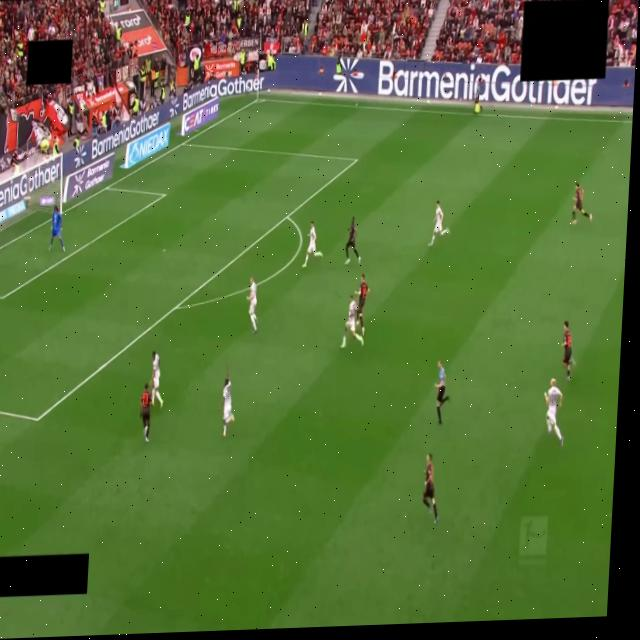player: (544, 379, 563, 445), (341, 295, 364, 347), (422, 454, 438, 523), (428, 200, 451, 247), (220, 375, 237, 437), (139, 383, 154, 443), (303, 221, 322, 267), (572, 184, 592, 224), (357, 274, 369, 337), (345, 217, 360, 265), (562, 321, 574, 380), (50, 205, 64, 251), (152, 352, 163, 407), (247, 278, 257, 333)
referee: (435, 360, 449, 424)
